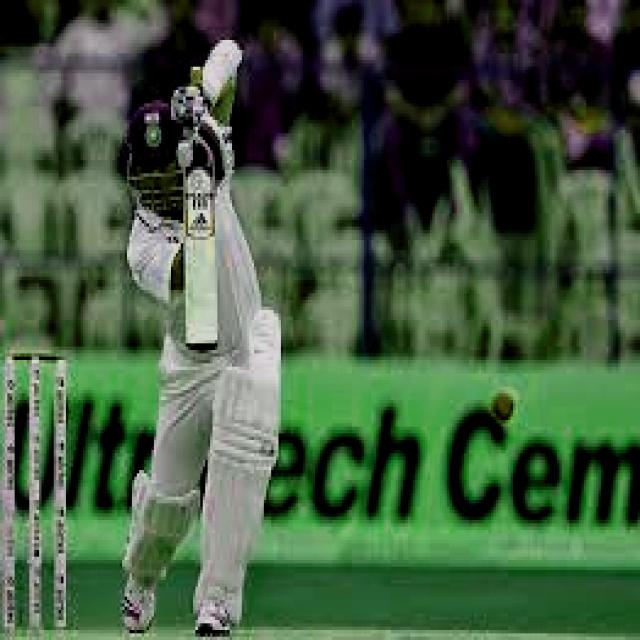bat: (174, 142, 235, 369)
